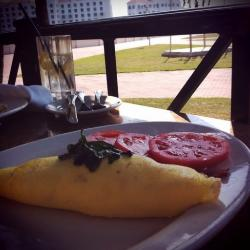omelette: (2, 150, 229, 225)
